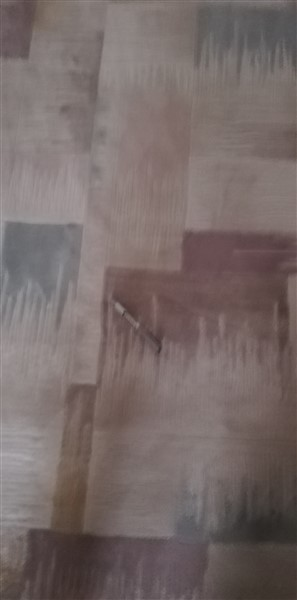pilot kalem: (110, 297, 168, 359)
